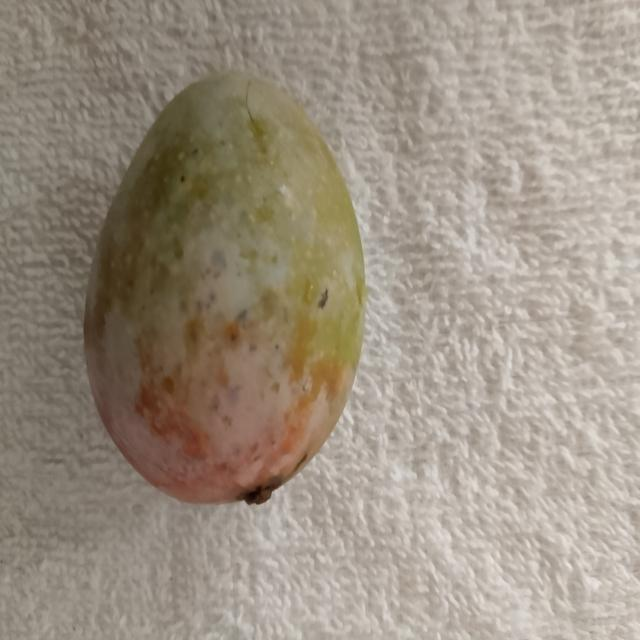mango: (82, 69, 367, 508)
